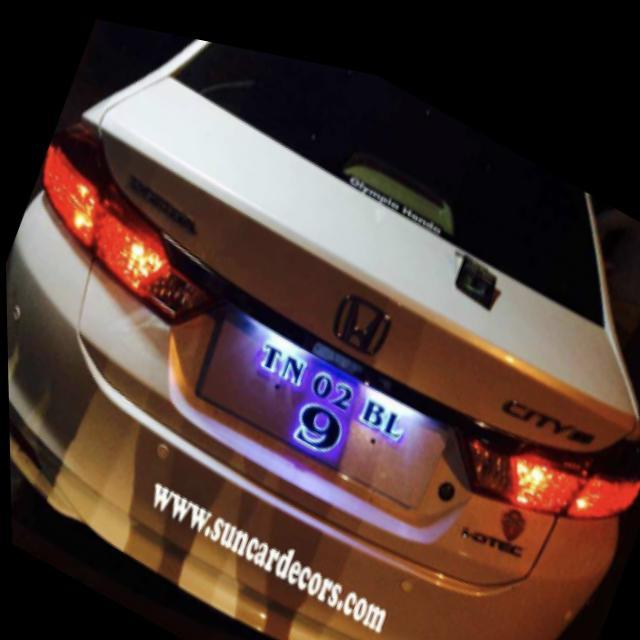license_plate: (228, 308, 414, 481)
